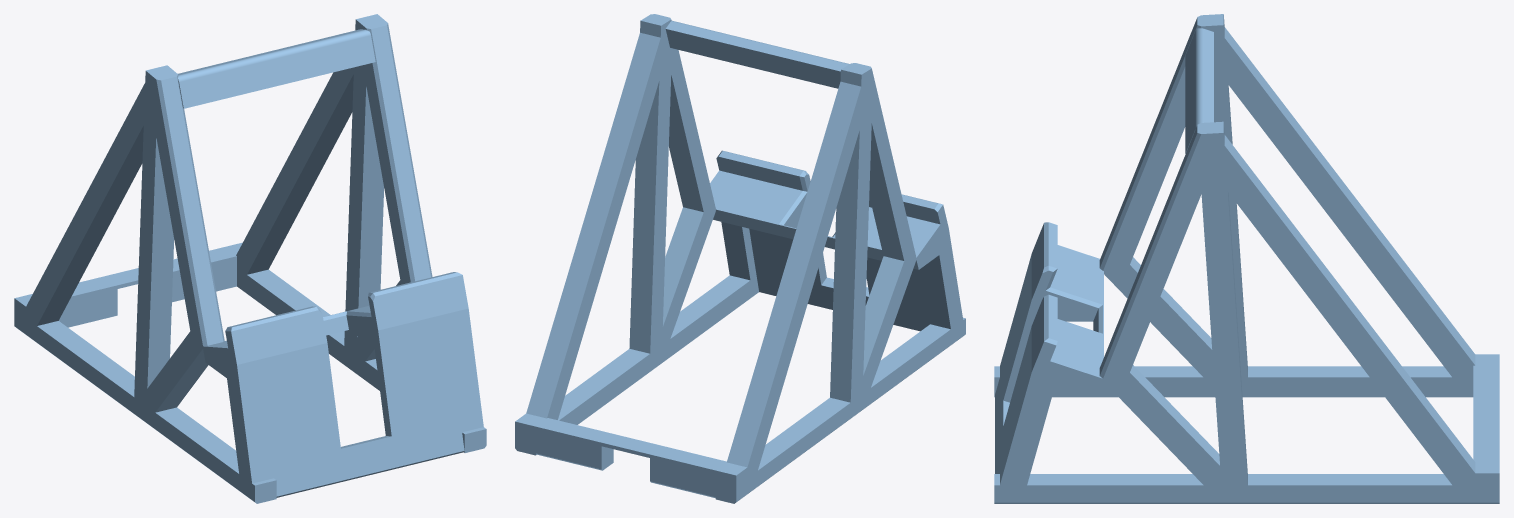
File: stand.glb
3 renders of one model, left to right at view 1: azimuth 30°, elevation 25°; view 2: azimuth 150°, elevation 25°; view 3: azimuth 270°, elevation 25°, orthographic. The views are drawn at different scales.
Parts seen in each view (by area): view 1: =>[0:1:1:2]; view 2: =>[0:1:1:2]; view 3: =>[0:1:1:2].
Part boxes in pixels (x1,y1,x2,y2): =>[0:1:1:2]: (14,14,486,503); =>[0:1:1:2]: (515,14,965,503); =>[0:1:1:2]: (994,14,1499,503).
Bounding box in the file's own units: 64 × 93.45 × 115.
